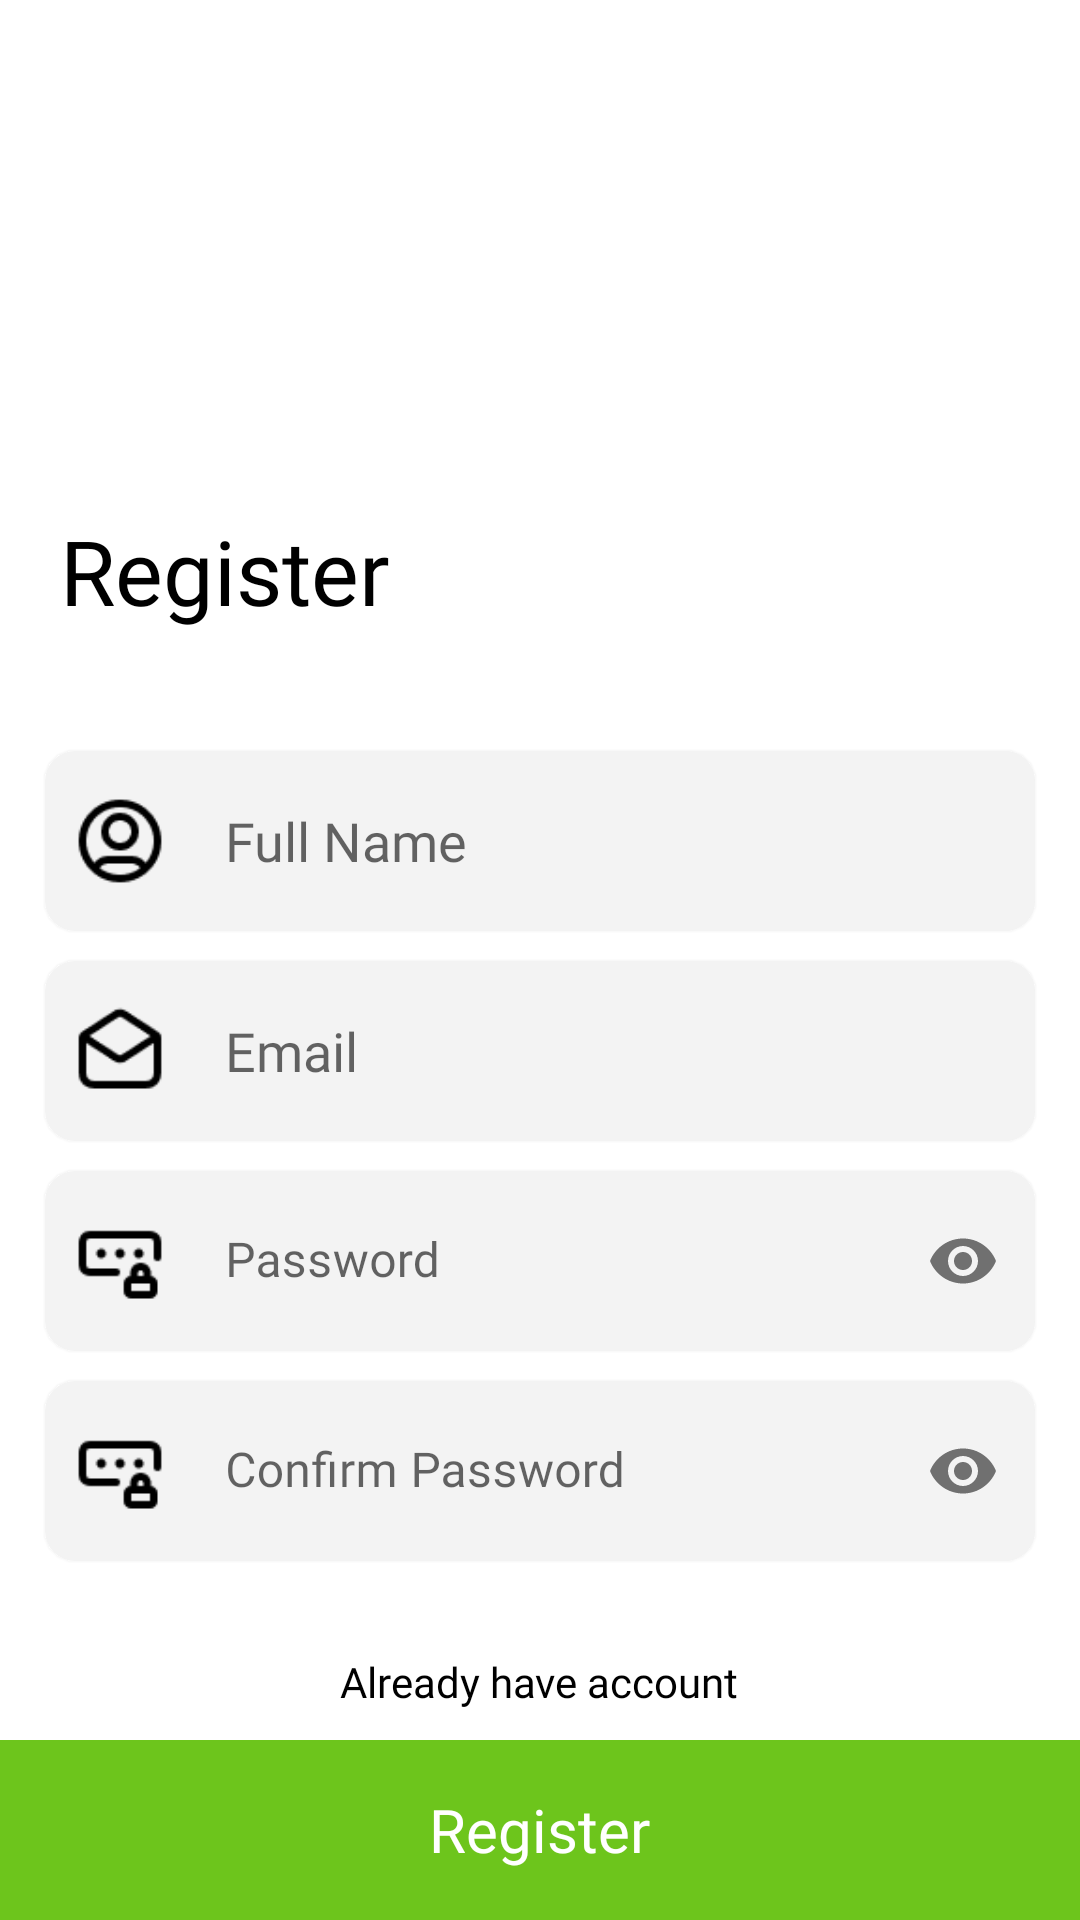

Screen size 1080 × 1920. Icon name, then its center in pixels as (x,y):
passcodelock: (120,1264), (120,1474)
usercircle: (120,841)
